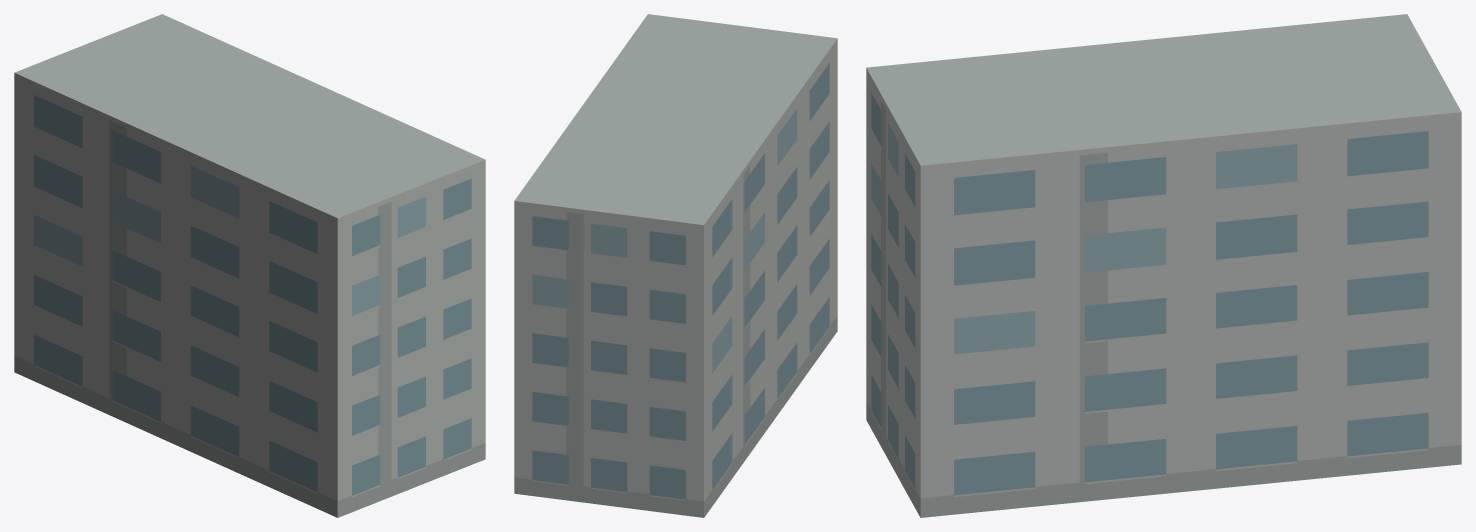
Rendered from residential-245b8c10-c76f-4926-b67d-1ab798e5e135.glb.
The picture shows the model from 3 angles, left to right: view 1: azimuth 30°, elevation 25°; view 2: azimuth 150°, elevation 25°; view 3: azimuth 270°, elevation 25°; orthographic projection. The views are drawn at different scales.
Visible parts, largest first — view 1: residential-245b8c10-c76f-4926-b67d-1ab798e5e135.tmp; view 2: residential-245b8c10-c76f-4926-b67d-1ab798e5e135.tmp; view 3: residential-245b8c10-c76f-4926-b67d-1ab798e5e135.tmp.
Boxes of the visible parts, left/top/right/bottom form: residential-245b8c10-c76f-4926-b67d-1ab798e5e135.tmp: left=14, top=14, right=485, bottom=517; residential-245b8c10-c76f-4926-b67d-1ab798e5e135.tmp: left=514, top=14, right=837, bottom=517; residential-245b8c10-c76f-4926-b67d-1ab798e5e135.tmp: left=866, top=14, right=1461, bottom=517.
Size of the model in its own units: 14.79 by 16 by 24.52.
